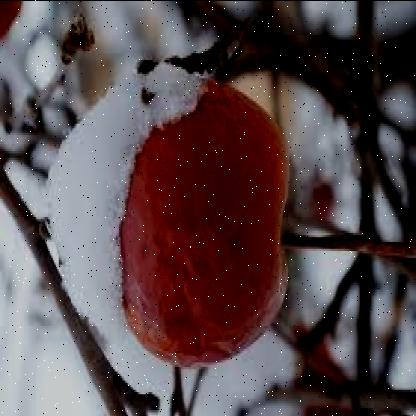damaged_apple: (116, 62, 297, 370)
